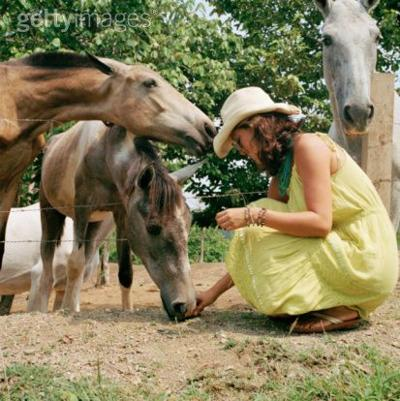person: (180, 85, 400, 338)
